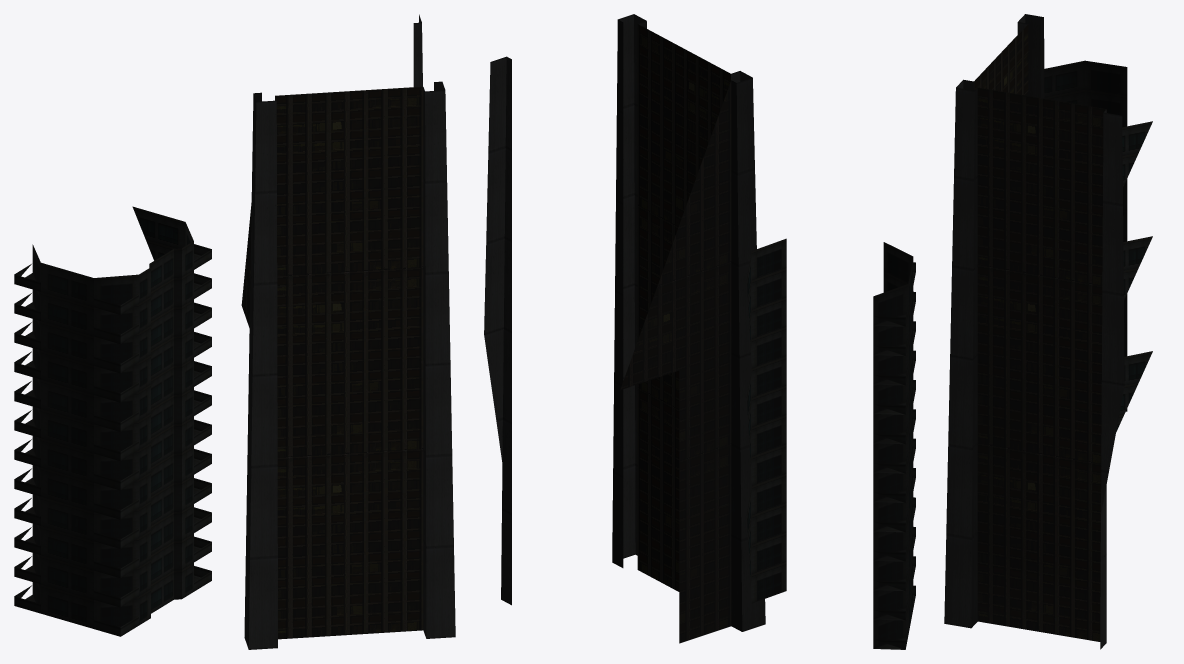
File: cell_2_4.gltf
3 renders of one model, left to right at view 1: azimuth 30°, elevation 25°; view 2: azimuth 150°, elevation 25°; view 3: azimuth 270°, elevation 25°, orthographic. The views are drawn at different scales.
Visible parts, largest first — view 1: cell_2_4; view 2: cell_2_4; view 3: cell_2_4.
Part boxes in pixels (x1,y1,x2,y2): cell_2_4: (14, 14, 455, 649); cell_2_4: (484, 14, 915, 649); cell_2_4: (944, 14, 1152, 649).
Size of the model in its own units: 102 by 128 by 48.94.
Materials: 5 (5 with a texture image).
